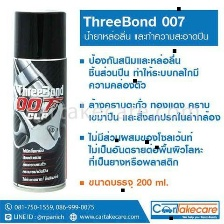aerosol_cans: (9, 7, 72, 194)
